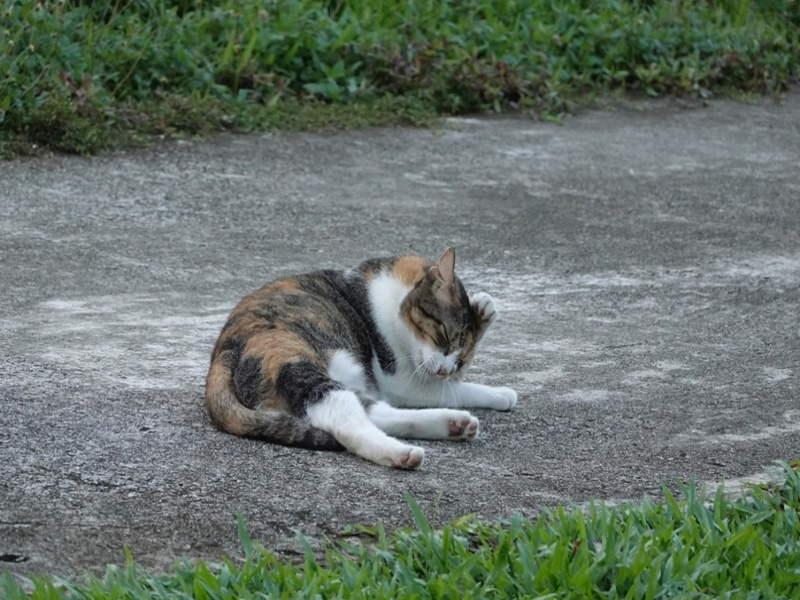cat: (203, 246, 540, 470)
